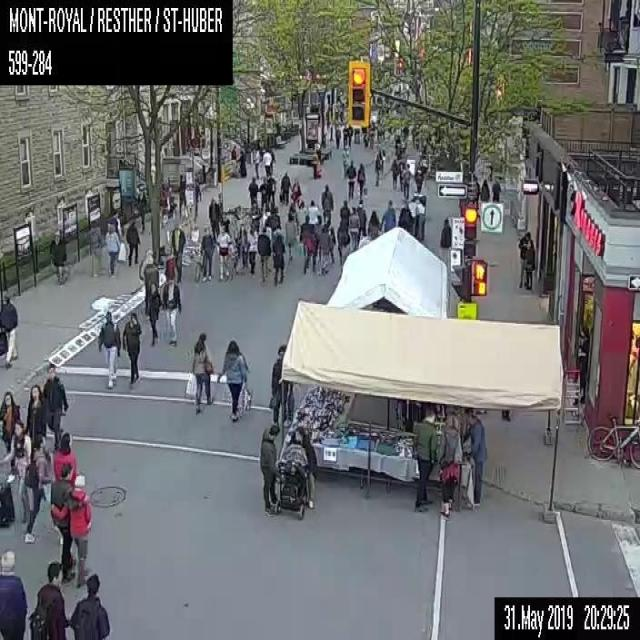construction: (68, 572, 109, 639)
pedestrian: (49, 460, 76, 586), (0, 418, 30, 526), (22, 434, 51, 545), (28, 560, 68, 639), (217, 339, 250, 420), (437, 413, 462, 519), (411, 411, 437, 512), (69, 473, 91, 588), (0, 548, 27, 638), (186, 331, 214, 413), (42, 363, 68, 448), (465, 416, 487, 510), (0, 389, 21, 482), (294, 426, 317, 509), (97, 309, 120, 388), (260, 424, 278, 518), (24, 383, 46, 450), (269, 344, 287, 425), (161, 276, 181, 345), (122, 311, 140, 386), (0, 292, 17, 368), (52, 430, 75, 484), (216, 224, 237, 280), (48, 228, 67, 284), (194, 226, 213, 282), (105, 223, 125, 276), (145, 282, 161, 346), (88, 222, 105, 276), (171, 222, 185, 282), (257, 226, 271, 284), (144, 258, 158, 312), (517, 230, 530, 287), (271, 233, 284, 285), (284, 212, 297, 262), (126, 220, 140, 265), (298, 214, 312, 259), (246, 223, 257, 276), (397, 200, 413, 236), (303, 226, 315, 274), (439, 217, 451, 265), (336, 219, 349, 263), (524, 238, 535, 289), (380, 199, 395, 235), (173, 180, 186, 220), (356, 199, 367, 246), (321, 183, 333, 225), (136, 187, 146, 235), (348, 205, 359, 248), (318, 227, 328, 274), (238, 223, 248, 269), (208, 197, 219, 238), (356, 160, 367, 200), (163, 188, 176, 220), (279, 170, 291, 204), (367, 209, 380, 240), (345, 159, 355, 199), (192, 178, 201, 220), (290, 176, 301, 206), (413, 160, 423, 193), (314, 213, 321, 260), (258, 176, 267, 212), (266, 173, 275, 207), (164, 253, 175, 280), (389, 157, 398, 190), (338, 199, 349, 225), (261, 148, 271, 176), (248, 176, 257, 207), (236, 150, 246, 177), (308, 198, 318, 224), (328, 225, 335, 262), (341, 144, 349, 176), (402, 162, 409, 198), (114, 212, 123, 238), (479, 178, 489, 200), (220, 211, 229, 234), (491, 178, 500, 201), (374, 152, 380, 185), (398, 157, 404, 190), (230, 144, 236, 176), (253, 148, 259, 178), (369, 119, 375, 148), (269, 148, 275, 175), (347, 122, 353, 146), (342, 122, 347, 146), (335, 126, 340, 148), (363, 133, 368, 147), (325, 218, 329, 225)
